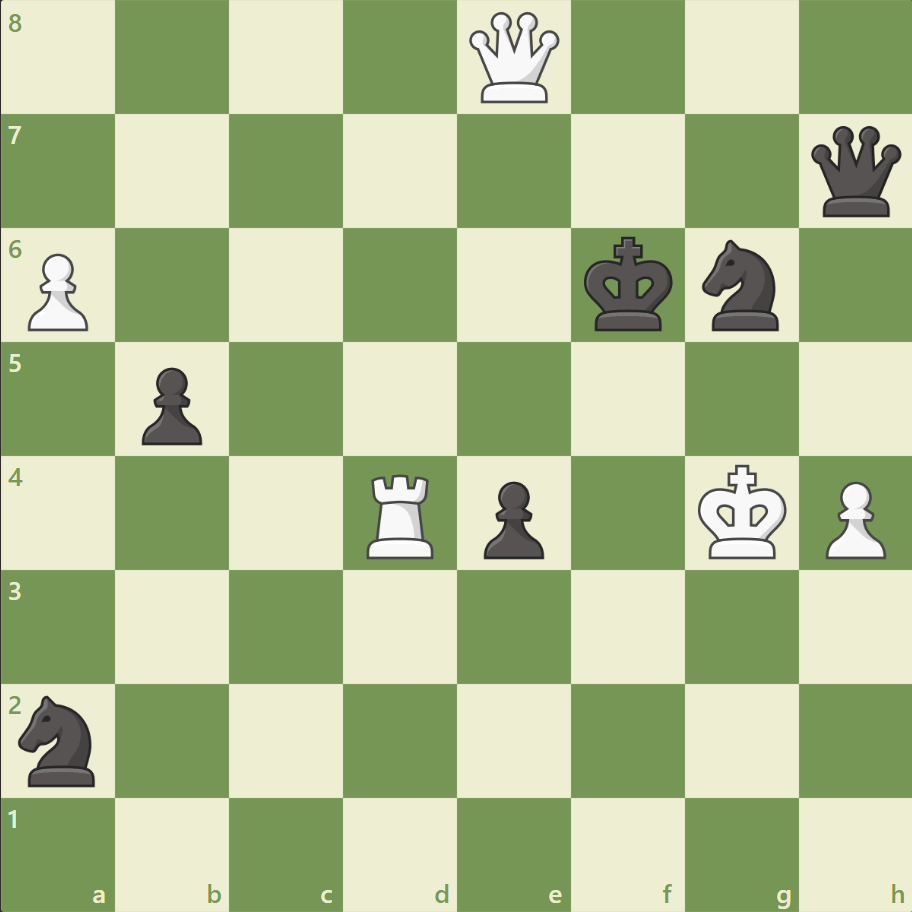K: (692, 458, 792, 566)
P: (20, 246, 95, 337), (815, 473, 889, 564)
Q: (464, 9, 563, 108)
R: (360, 466, 442, 563)
k: (579, 231, 679, 339)
n: (692, 234, 789, 337), (11, 688, 108, 791)
p: (133, 359, 208, 450), (474, 473, 549, 564)
q: (805, 122, 904, 222)
